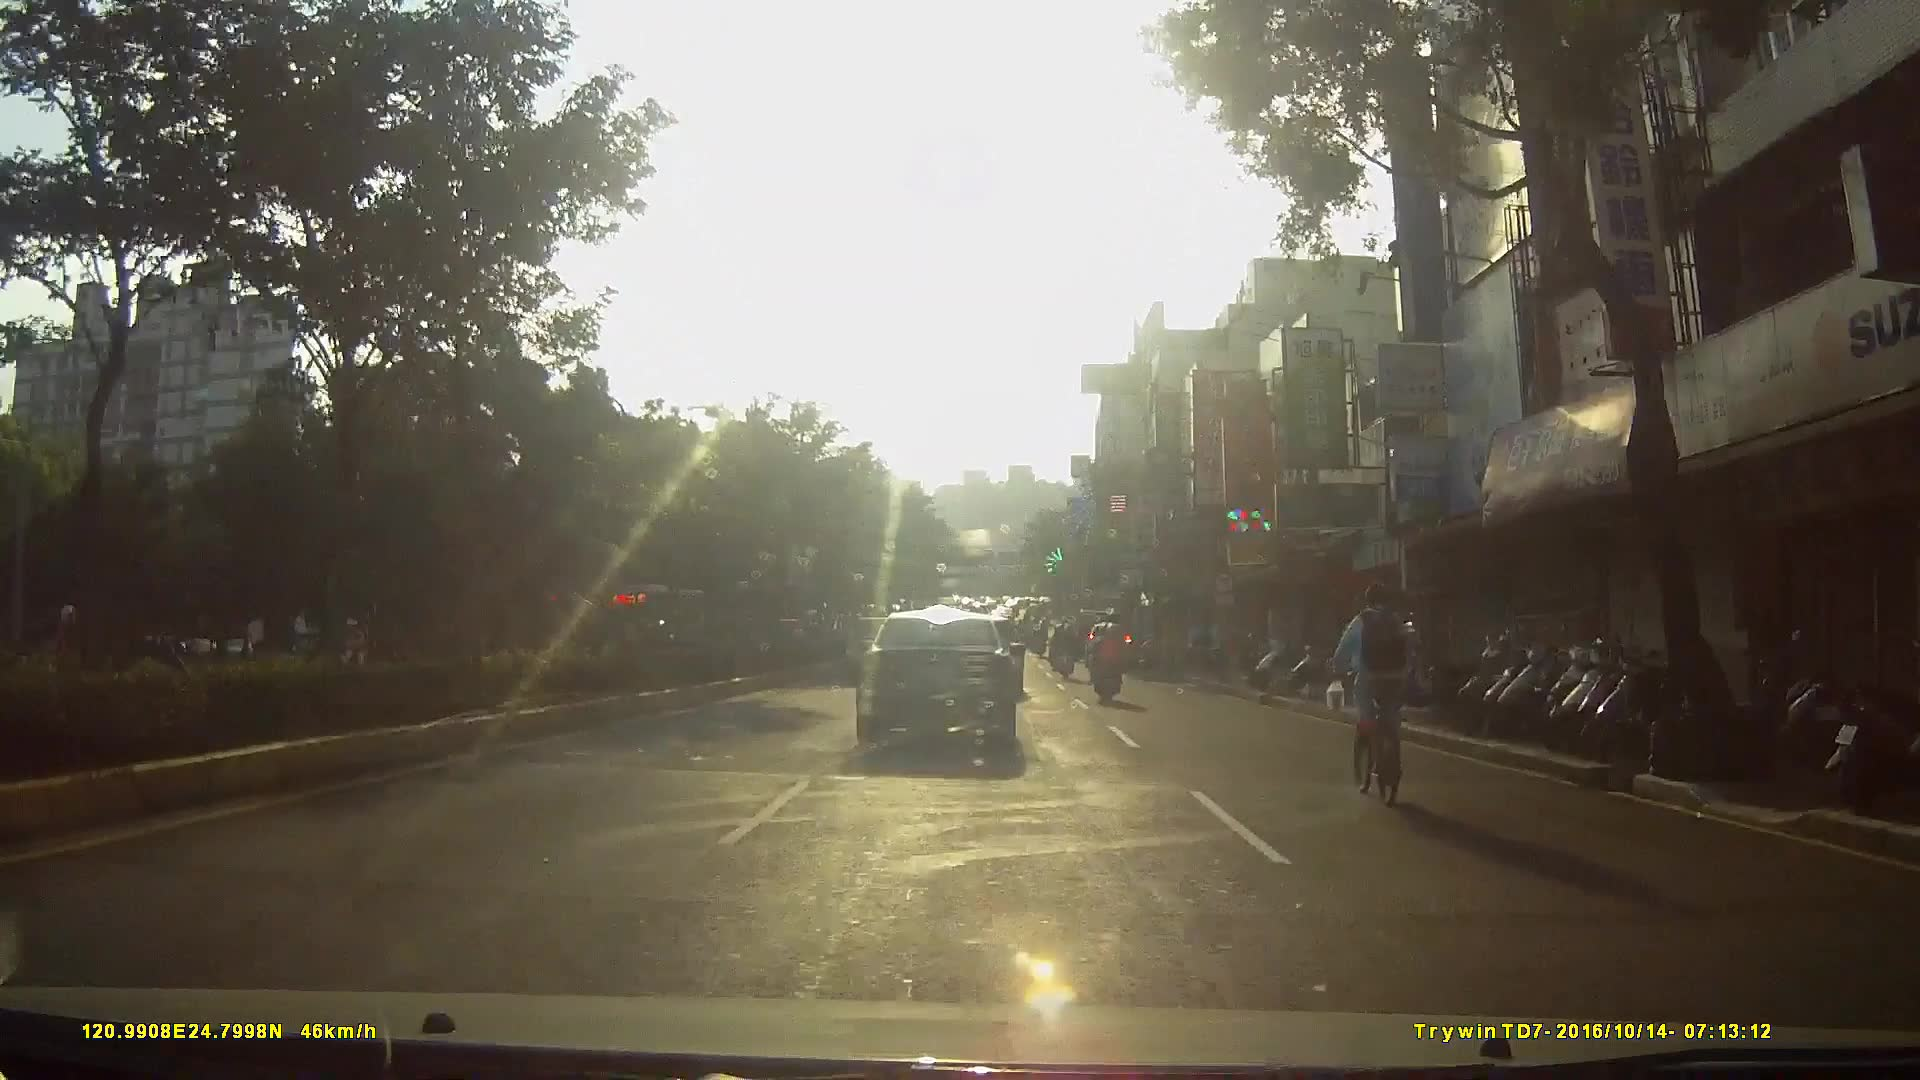rider: (1329, 577, 1417, 803), (1087, 624, 1123, 710), (1048, 619, 1075, 678)
vehicle: (852, 602, 1033, 767)
